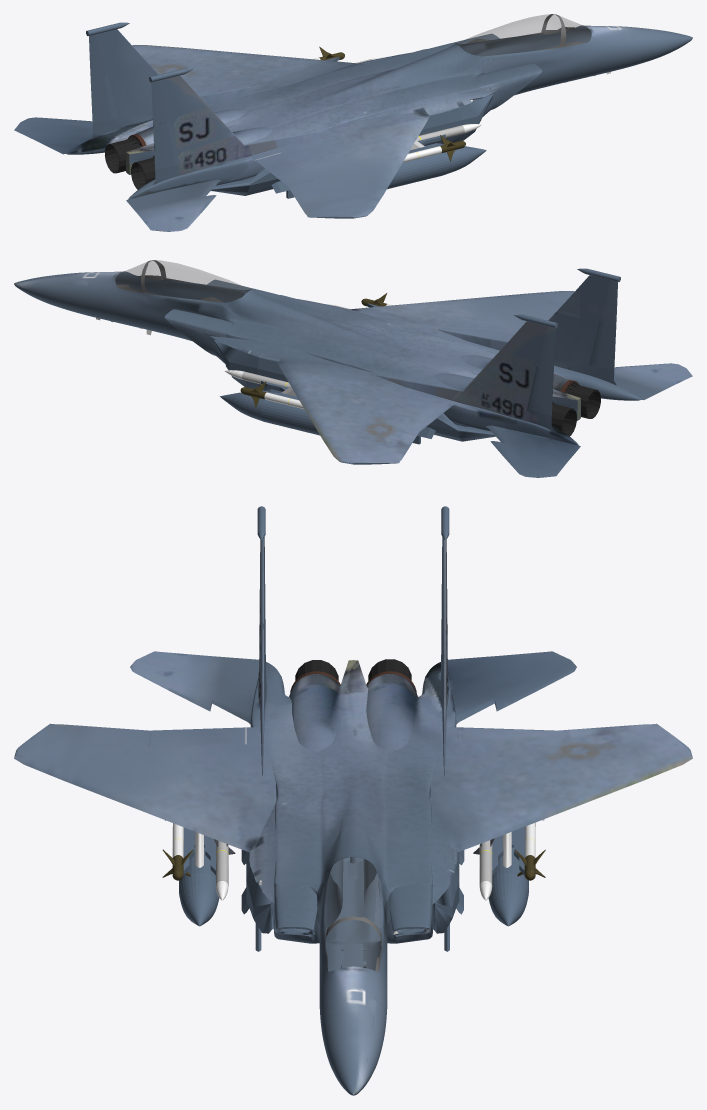
3 views of the same model, one above another, from view 1: azimuth 30°, elevation 25°; view 2: azimuth 150°, elevation 25°; view 3: azimuth 270°, elevation 25° (orthographic). The views are drawn at different scales.
Parts seen in each view (by area): view 1: 円柱.003; view 2: 円柱.003; view 3: 円柱.003.
Boxes of the visible parts, <box> form: 円柱.003: <box>14,14,692,231</box>; 円柱.003: <box>14,260,692,477</box>; 円柱.003: <box>14,506,692,1095</box>.
Bounding box in the file's own units: 17.7 × 4.25 × 11.7.
36 materials, 7 textured.
